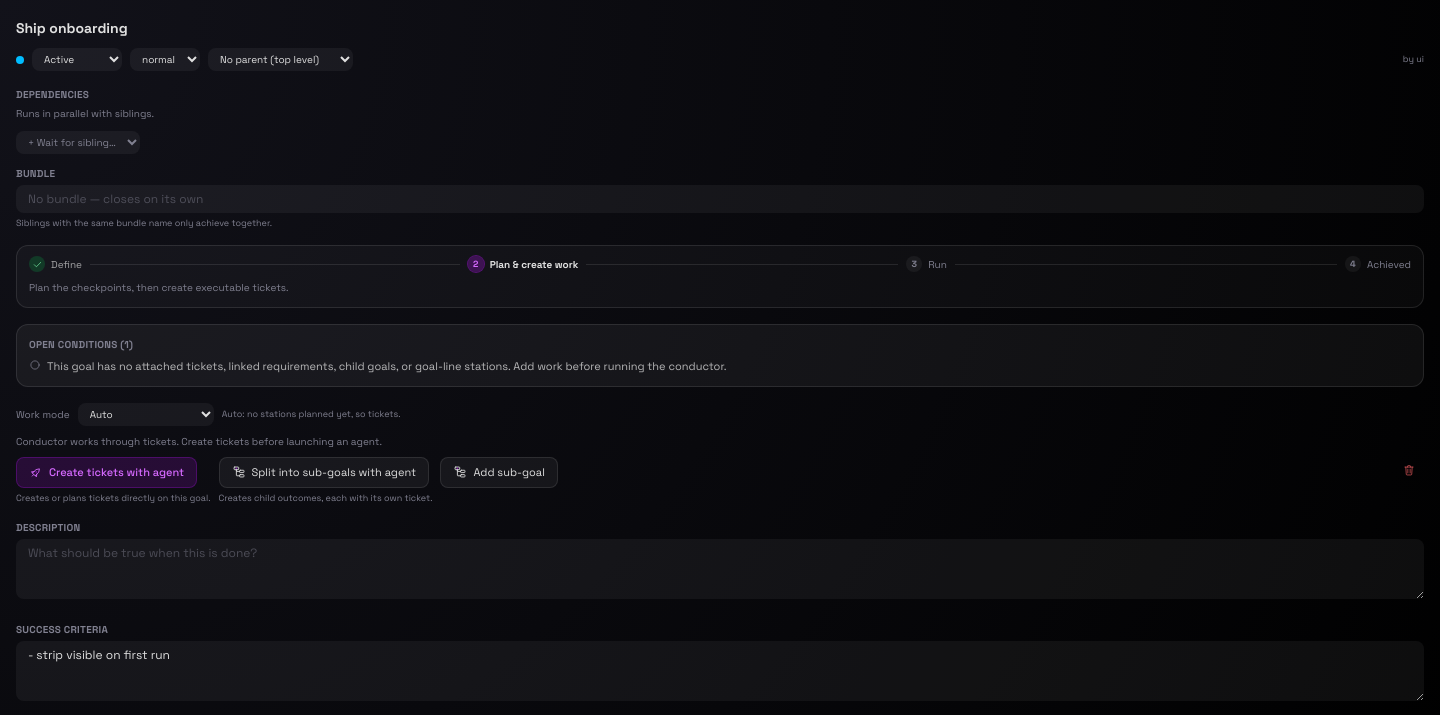
it: GoalDetailPanel dependencies › adds a dependency picked from the sibling list
Select "Backend ready" in the dropdown with test id "goal-depends-picker" at [78, 142], box [16,131,140,154]
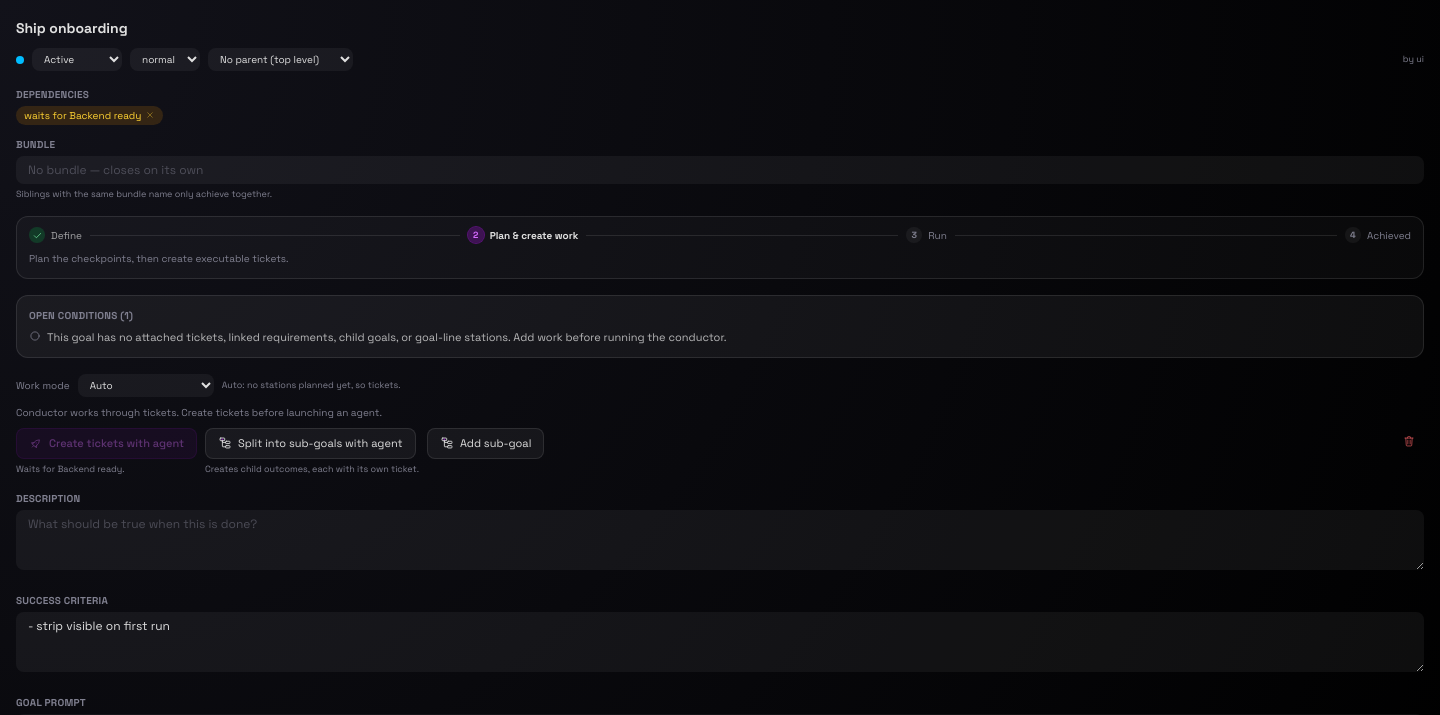
Expected: the element with test id "goal-depends-chip-g2" is shown, [16,106,163,125]
